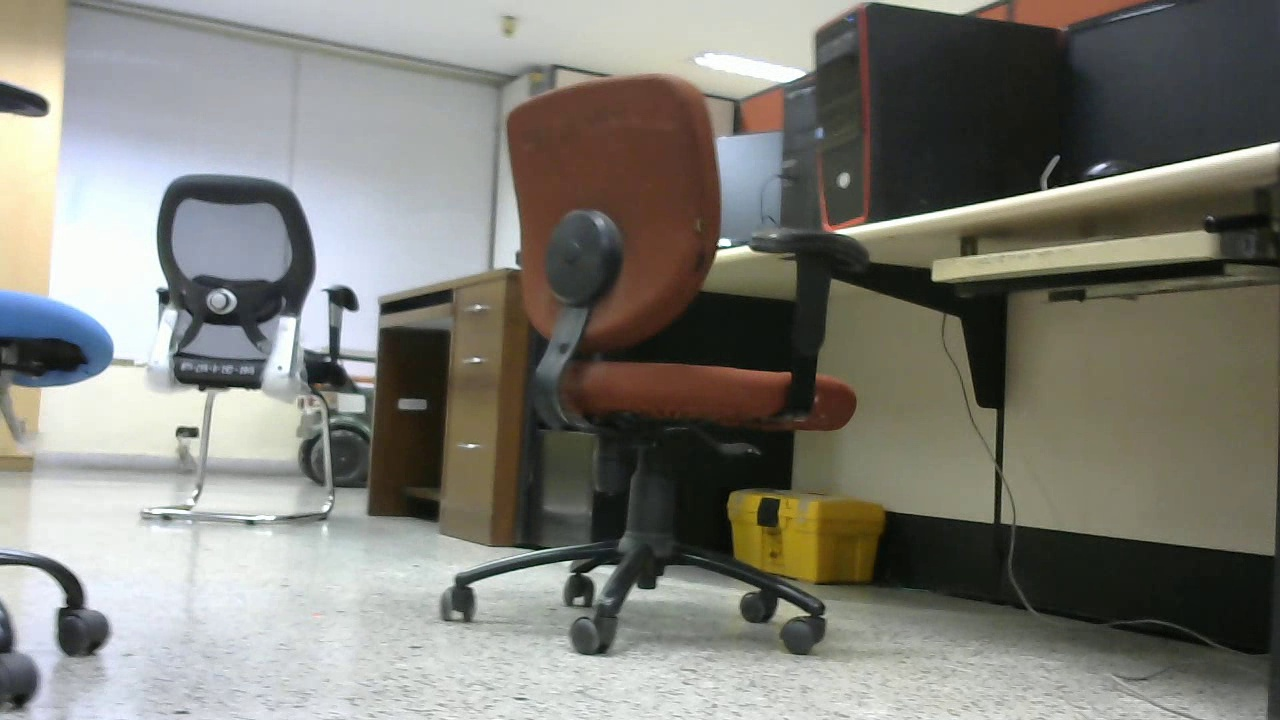chair: (134, 166, 342, 530)
